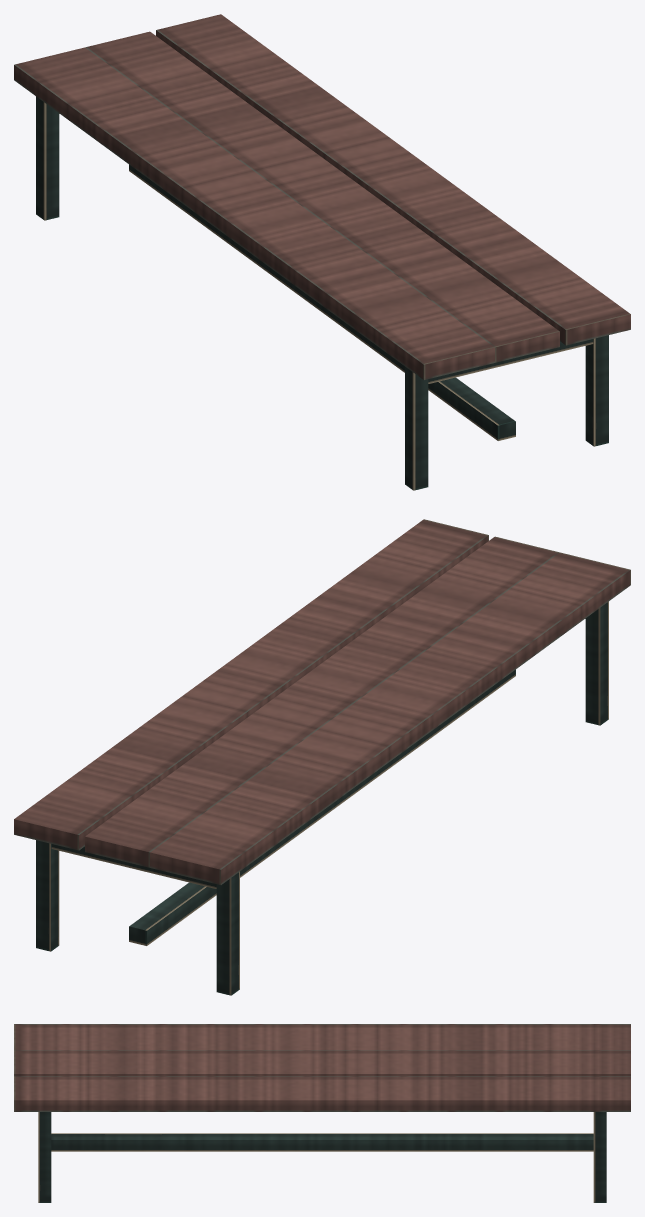
The model's file is SM_LabProp_Bench_Lobby_70x240x40.fbx.
3 renders of one model, top to bottom at view 1: azimuth 30°, elevation 25°; view 2: azimuth 150°, elevation 25°; view 3: azimuth 270°, elevation 25°, orthographic. The views are drawn at different scales.
Parts seen in each view (by area): view 1: SM_LabProp_Bench_Lobby_70x240x40.001; view 2: SM_LabProp_Bench_Lobby_70x240x40.001; view 3: SM_LabProp_Bench_Lobby_70x240x40.001.
Boxes of the visible parts, x1,y1,x2,y2 form: SM_LabProp_Bench_Lobby_70x240x40.001: (14, 14, 630, 490); SM_LabProp_Bench_Lobby_70x240x40.001: (14, 519, 630, 995); SM_LabProp_Bench_Lobby_70x240x40.001: (14, 1024, 630, 1202).
Bounding box in the file's own units: 0.7 × 0.45 × 2.4.
